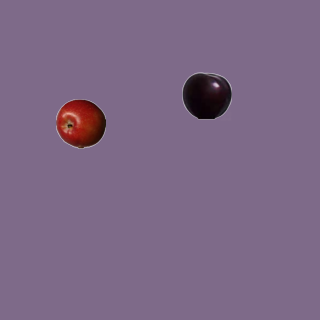Apple Braeburn: (55, 98, 105, 148)
Cherry Wax Black: (181, 70, 231, 120)
